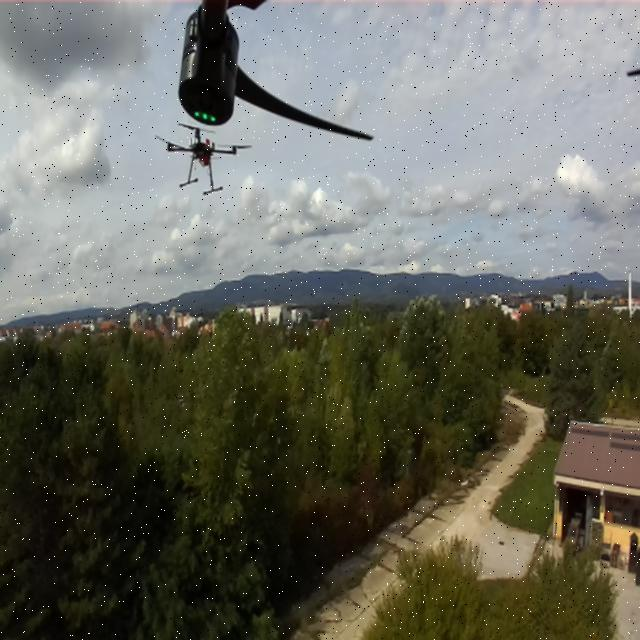UAV: (154, 115, 246, 196)
